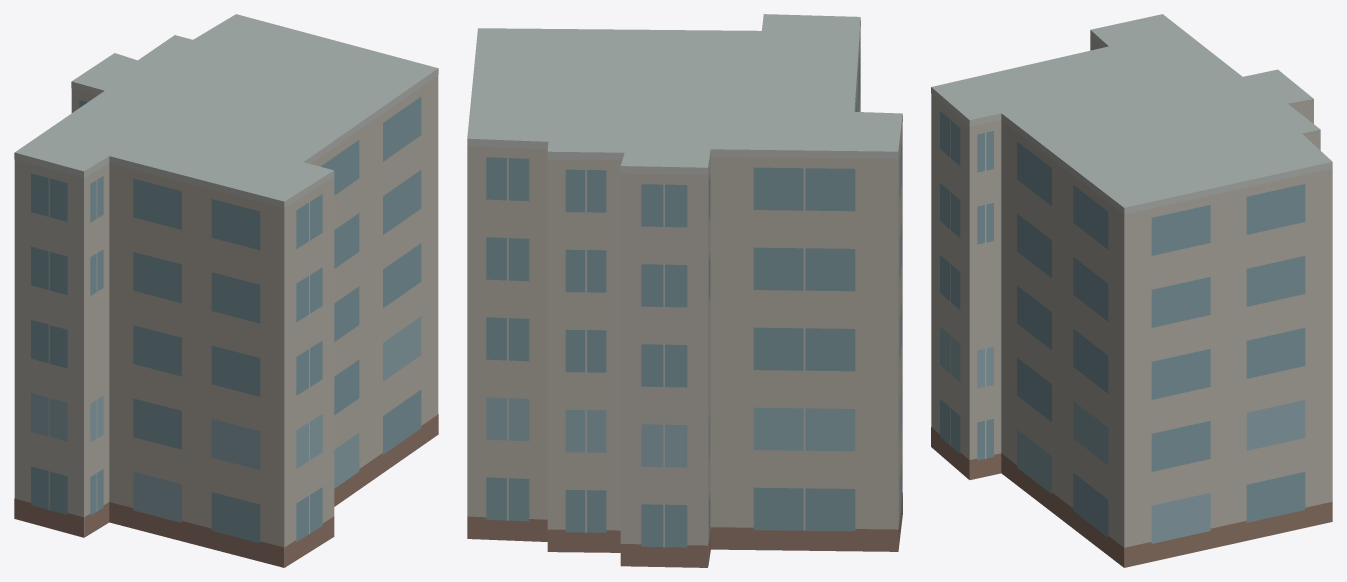
The model's file is survey-upis-32924870.glb.
The picture shows the model from 3 angles, left to right: view 1: azimuth 30°, elevation 25°; view 2: azimuth 150°, elevation 25°; view 3: azimuth 270°, elevation 25°; orthographic projection. The views are drawn at different scales.
Visible parts, largest first — view 1: survey-upis-32924870.tmp; view 2: survey-upis-32924870.tmp; view 3: survey-upis-32924870.tmp.
Boxes of the visible parts, x1,y1,x2,y2 form: survey-upis-32924870.tmp: (14, 14, 438, 567); survey-upis-32924870.tmp: (467, 14, 902, 567); survey-upis-32924870.tmp: (931, 14, 1332, 567).
Size of the model in its own units: 15.26 by 13.2 by 13.35.
